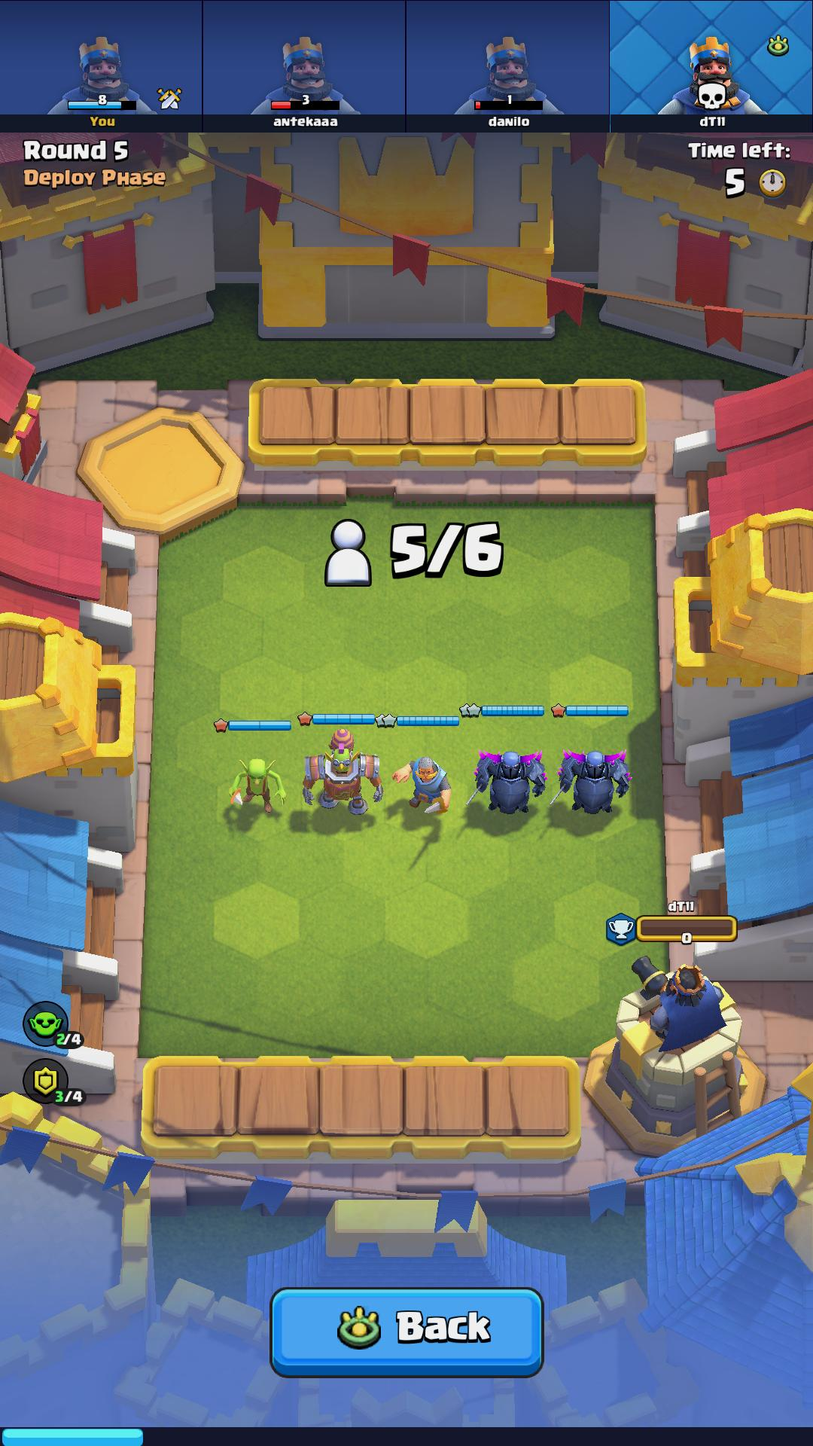goblin: (230, 749, 286, 820)
knight: (397, 749, 451, 819)
machine: (297, 720, 382, 817)
pekka: (558, 741, 632, 824), (473, 741, 543, 821)
